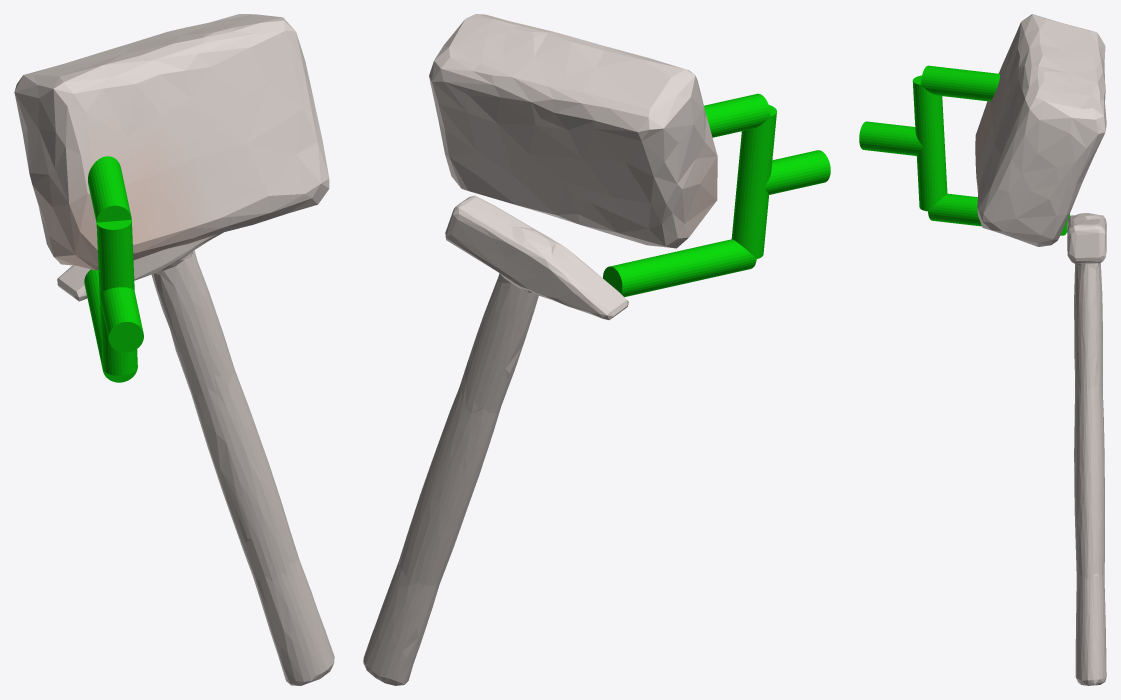
File: round_000_trial_003.obj
The picture shows the model from 3 angles, left to right: view 1: azimuth 30°, elevation 25°; view 2: azimuth 150°, elevation 25°; view 3: azimuth 270°, elevation 25°; orthographic projection. The views are drawn at different scales.
Parts seen in each view (by area): view 1: geometry_0, geometry_1; view 2: geometry_0, geometry_1; view 3: geometry_0, geometry_1.
Part boxes in pixels (x1,y1,x2,y2): geometry_0: (14, 14, 334, 685); geometry_1: (84, 156, 143, 382); geometry_0: (363, 14, 717, 685); geometry_1: (603, 93, 830, 296); geometry_0: (975, 14, 1106, 685); geometry_1: (859, 65, 1070, 235).
Bounding box in the file's own units: 0.1172 × 0.2184 × 0.0863.
